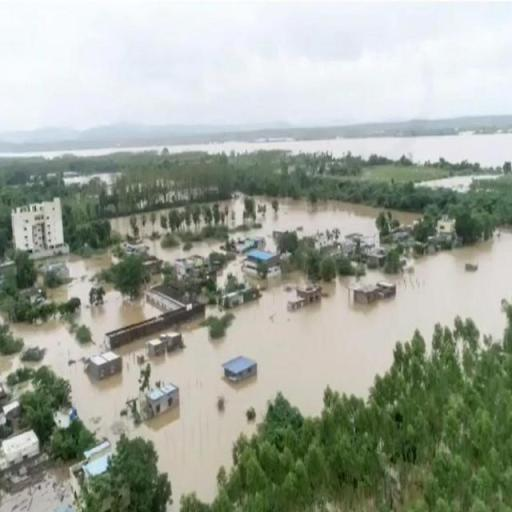flood: (129, 230, 512, 512), (0, 253, 147, 440), (110, 195, 386, 263), (0, 134, 512, 166), (0, 470, 76, 512)
house: (11, 203, 69, 263), (0, 428, 43, 483), (72, 439, 112, 477), (141, 384, 180, 418), (243, 248, 282, 278), (85, 350, 120, 383), (224, 354, 258, 384), (146, 286, 188, 310), (176, 254, 211, 278), (150, 333, 184, 355), (297, 282, 322, 305), (355, 282, 381, 304), (437, 214, 457, 236), (366, 246, 385, 266)
